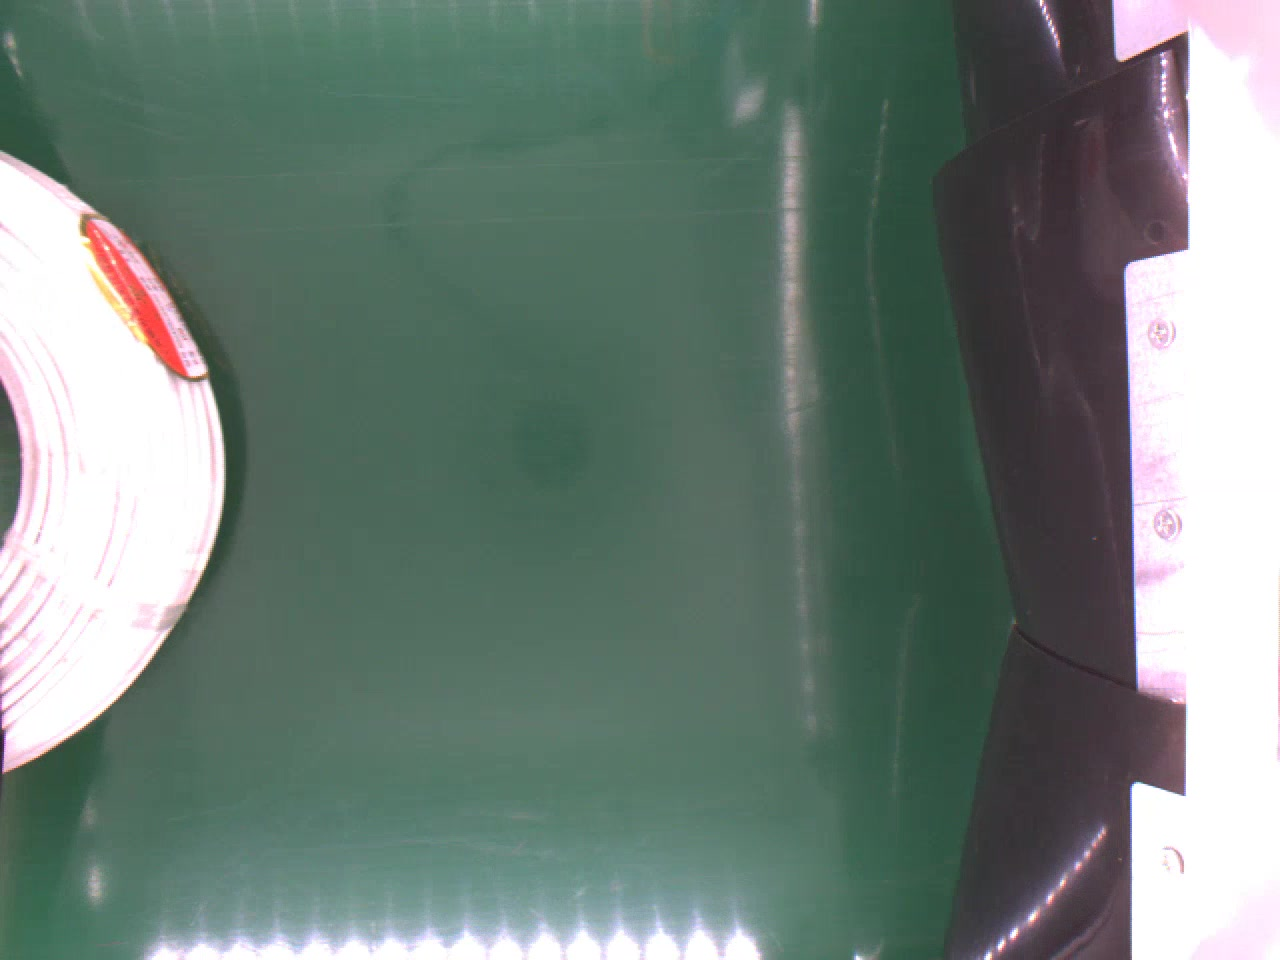white: (0, 150, 234, 778)
